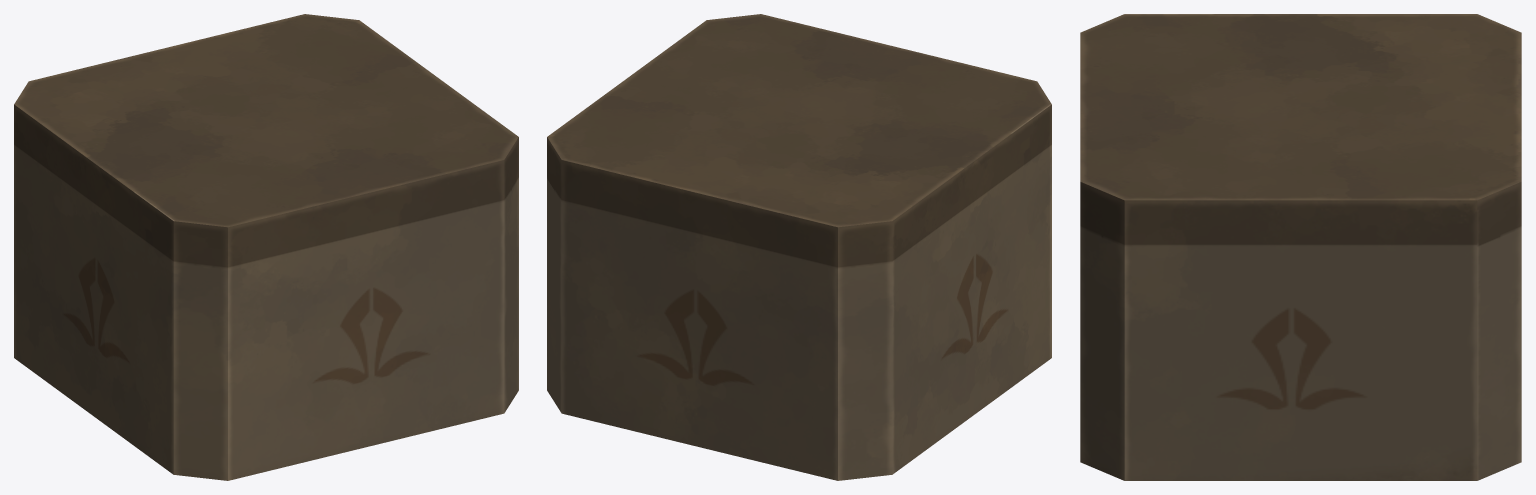
Rendered from bricks_01_end.fbx.
The picture shows the model from 3 angles, left to right: view 1: azimuth 30°, elevation 25°; view 2: azimuth 150°, elevation 25°; view 3: azimuth 270°, elevation 25°; orthographic projection. The views are drawn at different scales.
Visible parts, largest first — view 1: bricks_01_end; view 2: bricks_01_end; view 3: bricks_01_end.
Boxes of the visible parts, left/top/right/bottom form: bricks_01_end: left=14, top=14, right=518, bottom=480; bricks_01_end: left=547, top=14, right=1051, bottom=480; bricks_01_end: left=1080, top=14, right=1521, bottom=480.
Bounding box in the file's own units: 45.61 × 32.01 × 45.61.
